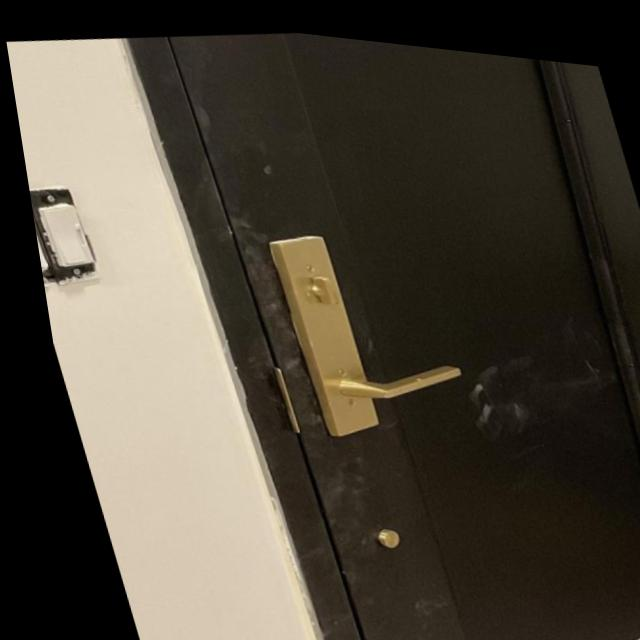door_handle: (272, 318, 482, 433)
